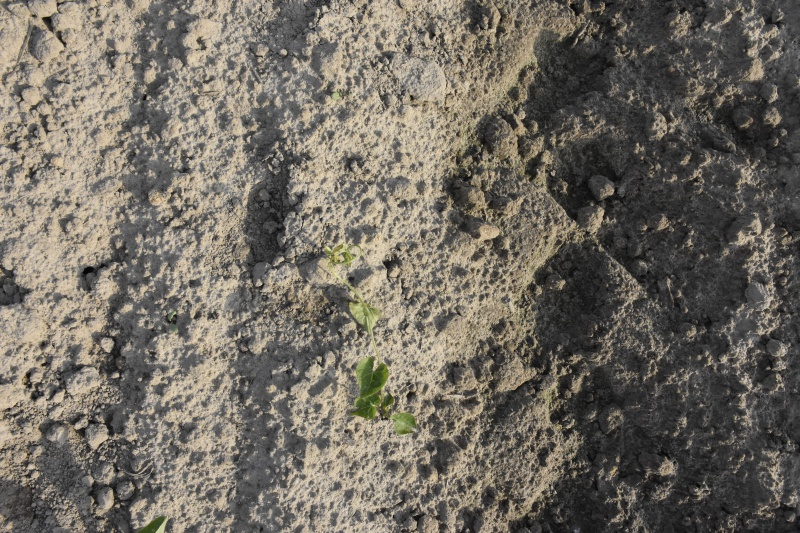field bindweed: (321, 242, 420, 442)
